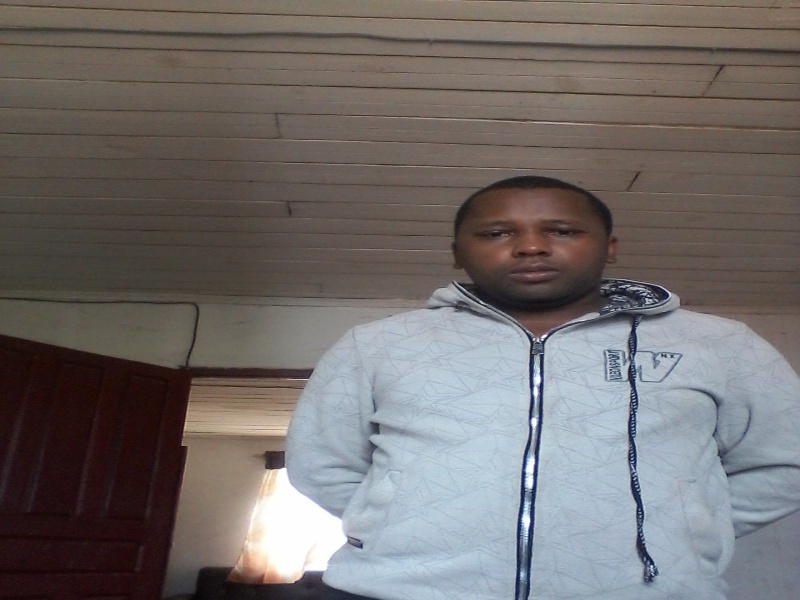TsisyArotava: (439, 163, 633, 317)
